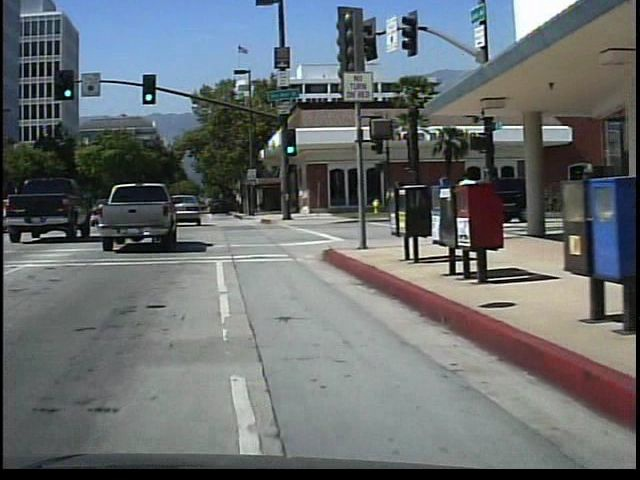person: (457, 167, 484, 242)
